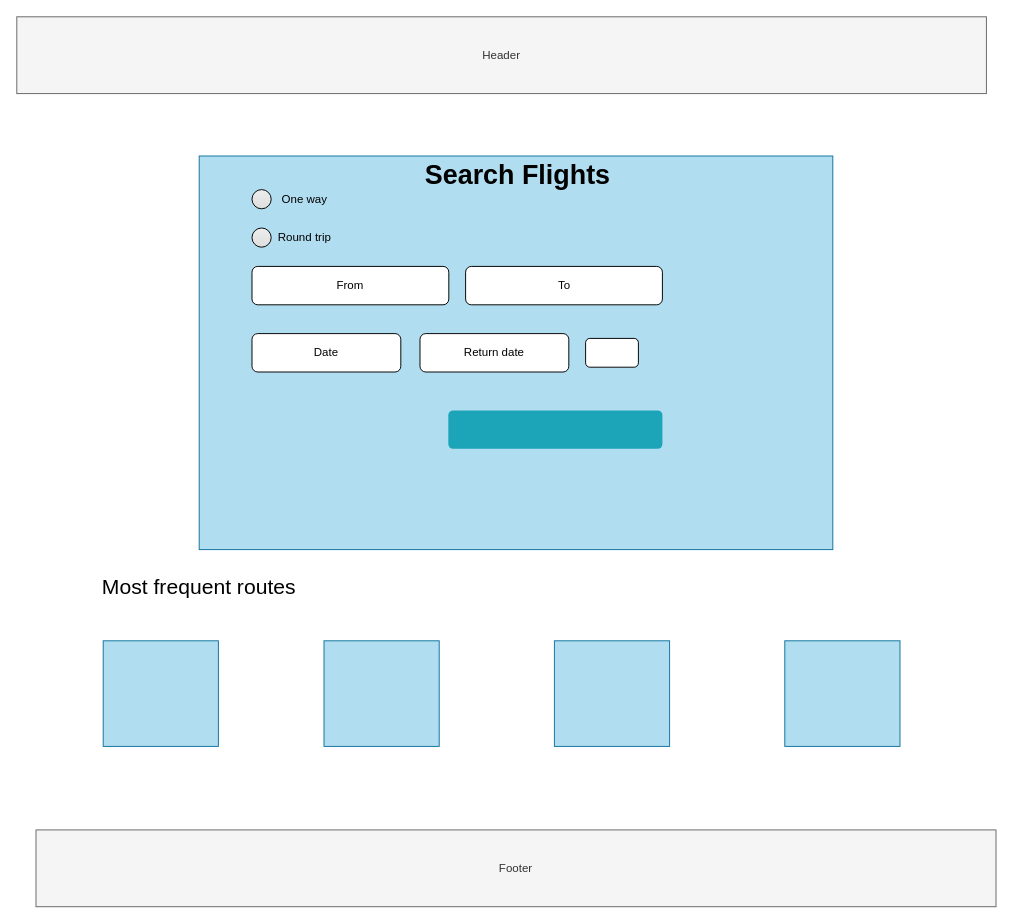
Some shapes in this 1013 by 924 pixel diagram are drawn without their labels. The centre of each missing label's shape, as x and y in pixels:
"# travellers" goes at (x=611, y=352).
"Search" goes at (x=555, y=429).
